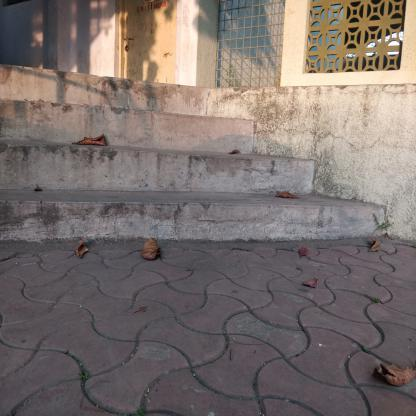stairs: (38, 103, 252, 255)
